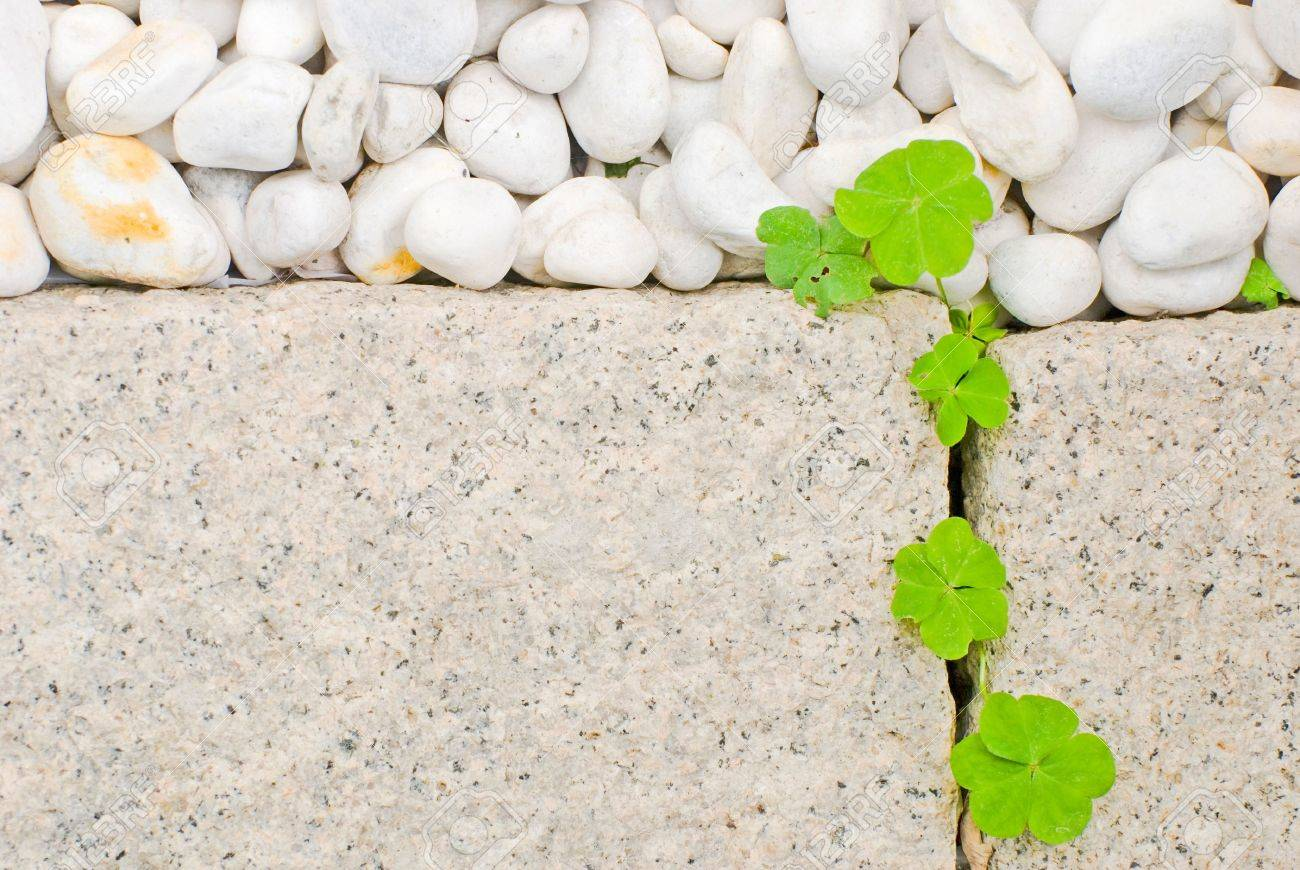oxalis: (818, 504, 1161, 844), (746, 134, 1029, 351), (899, 322, 1023, 447)
